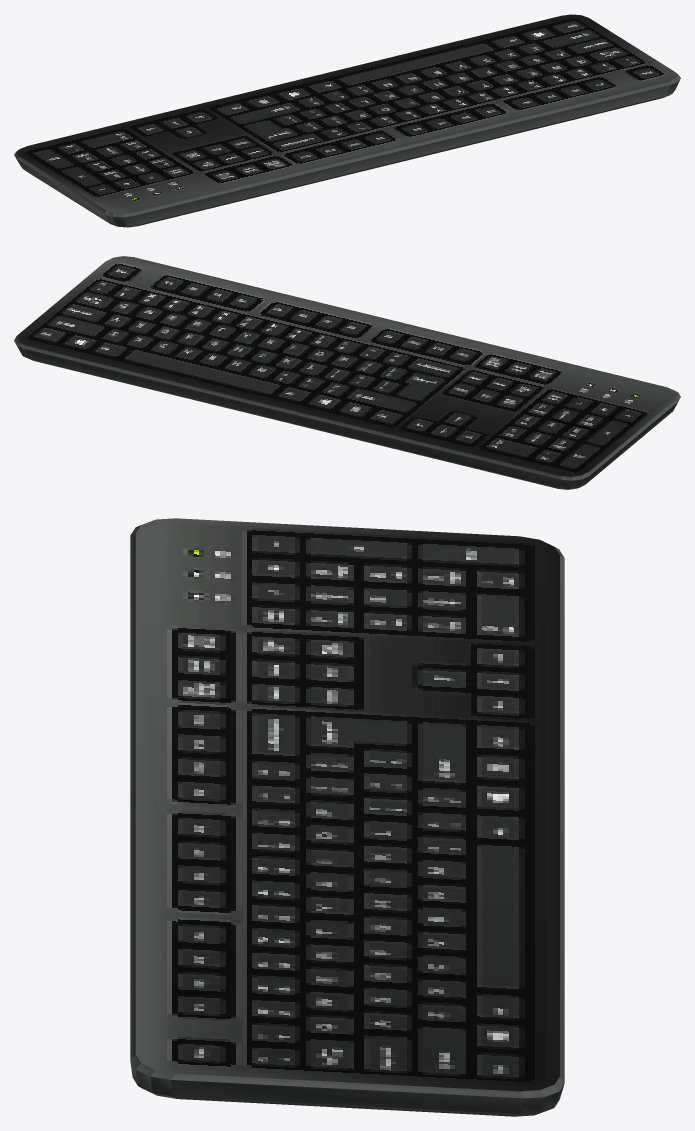
The model's file is keyboard.glb.
The picture shows the model from 3 angles, top to bottom: view 1: azimuth 30°, elevation 25°; view 2: azimuth 150°, elevation 25°; view 3: azimuth 270°, elevation 25°; orthographic projection. The views are drawn at different scales.
Visible parts, largest first — view 1: KeyBoard_Apt_01; view 2: KeyBoard_Apt_01; view 3: KeyBoard_Apt_01.
Boxes of the visible parts, x1,y1,x2,y2 form: KeyBoard_Apt_01: (14, 14, 680, 227); KeyBoard_Apt_01: (14, 256, 680, 489); KeyBoard_Apt_01: (130, 518, 564, 1116).
Bounding box in the file's own units: 0.43 × 0.0187 × 0.1411.
1 material, 1 textured.
